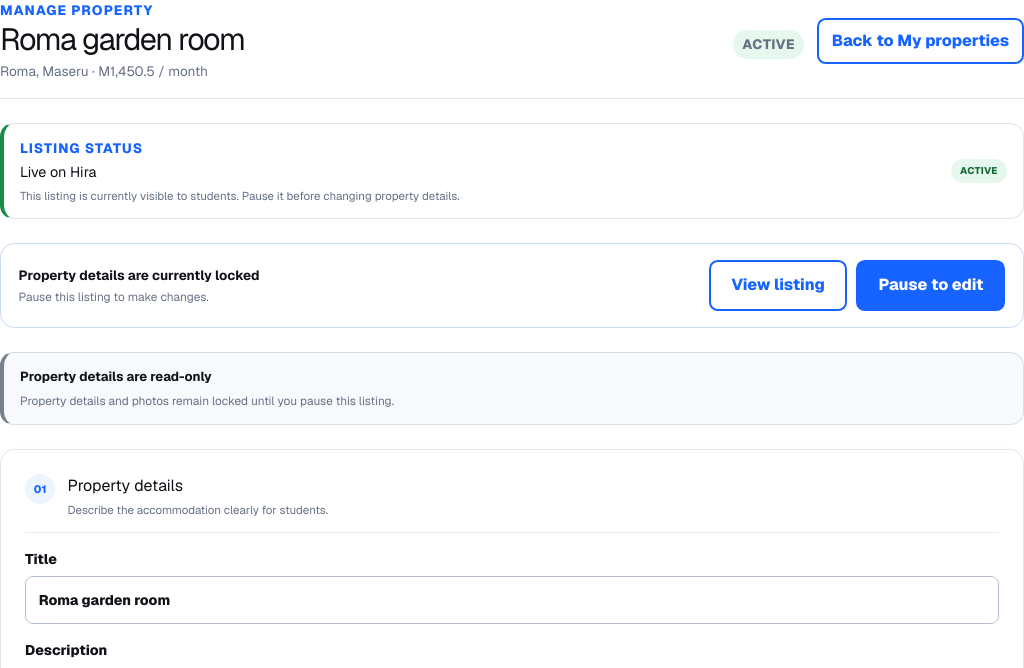
Test case: PropertyForm › keeps ACTIVE read-only and allows retry when pausing fails
Click the button "Pause to edit".
click(931, 286)  # box x1=856 y1=260 x2=1005 y2=311
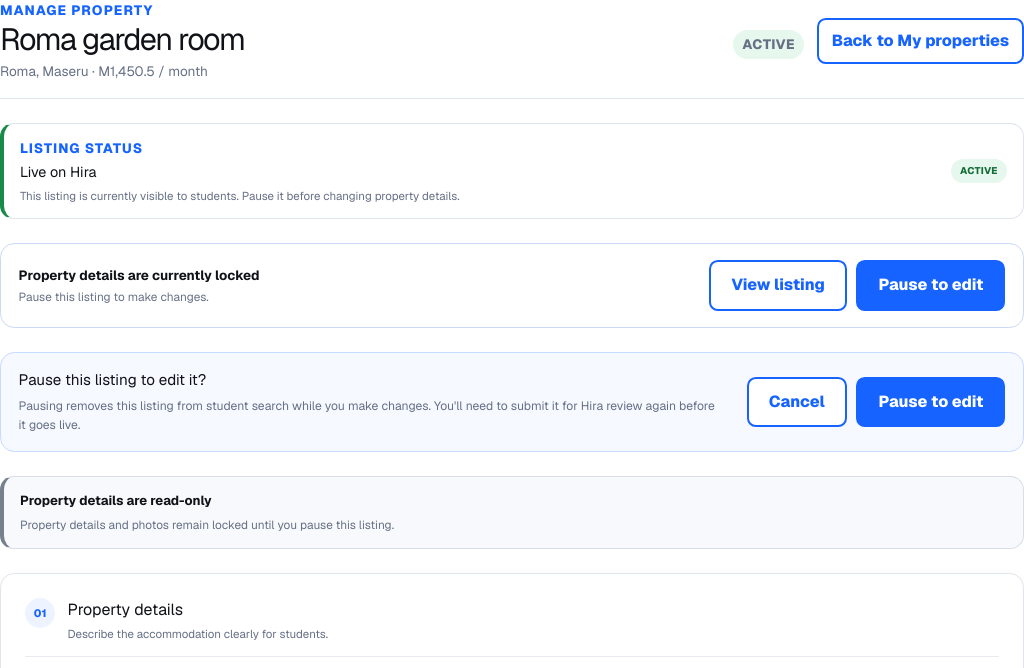
Click the button "Pause to edit" in the row of "Pause this listing to edit it?".
click(931, 402)  # box x1=856 y1=376 x2=1005 y2=427
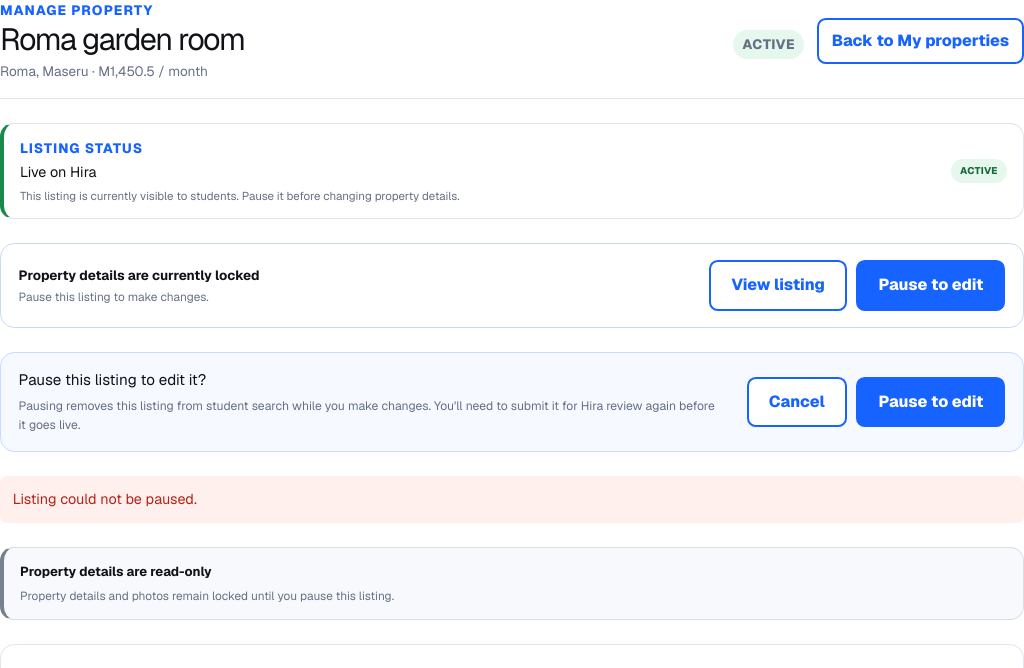
Check: the dialog is shown, box x1=0 y1=352 x2=1023 y2=452
Check: the button "Pause to edit" in the row of "Pause this listing to edit it?" is enabled, box x1=856 y1=376 x2=1005 y2=427
Check: the message reads "Listing could not be paused.", box x1=13 y1=490 x2=197 y2=508
